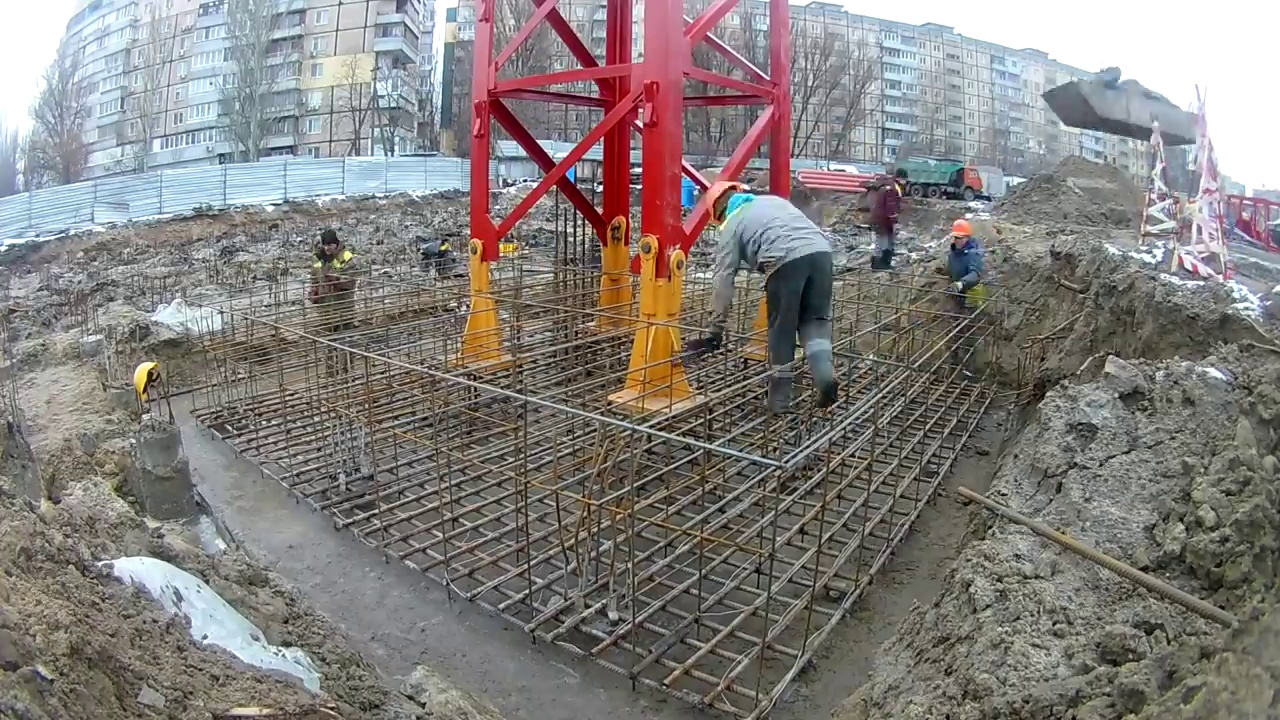helmet: (704, 181, 738, 222), (129, 362, 160, 404), (950, 219, 973, 237)
helmet-off: (318, 229, 342, 262), (890, 167, 910, 193)
helmet-on: (703, 185, 750, 224), (949, 219, 973, 248)
person: (700, 181, 837, 420), (309, 230, 359, 332), (865, 167, 910, 278), (945, 219, 983, 312)
